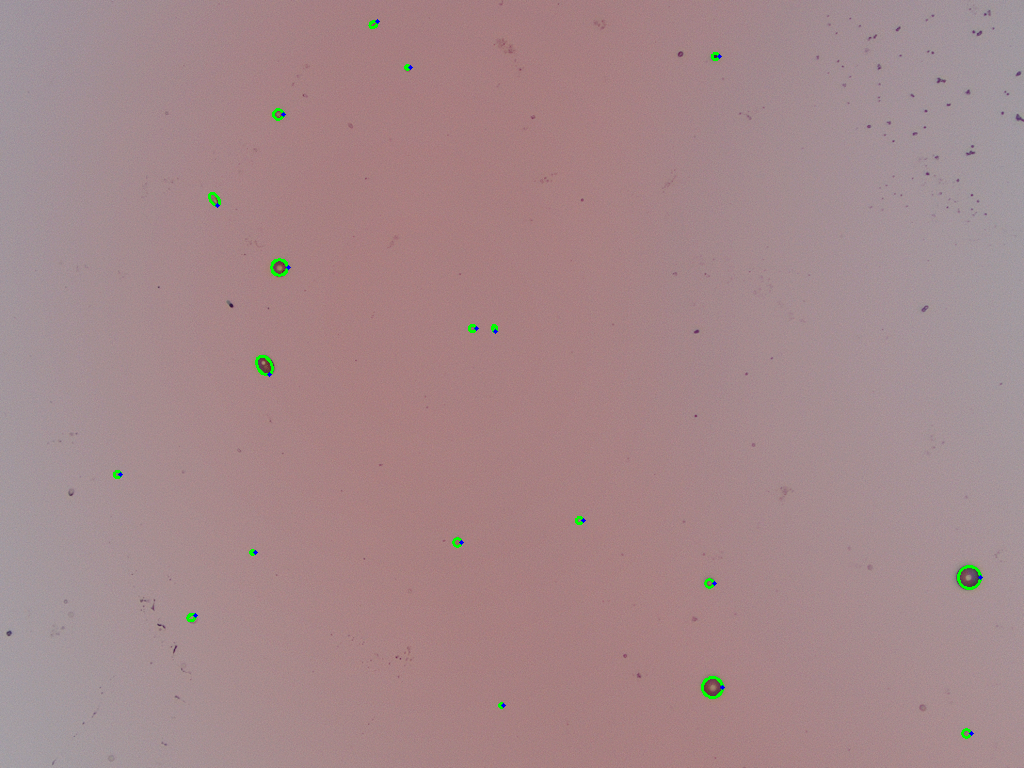circle: (957, 565, 980, 589), (702, 676, 722, 697), (270, 259, 288, 276), (273, 108, 283, 119), (704, 578, 714, 587), (962, 729, 971, 738), (453, 537, 461, 546), (187, 613, 195, 622), (711, 53, 719, 60), (576, 517, 583, 524), (113, 470, 120, 477), (404, 64, 410, 70), (250, 549, 255, 555), (498, 703, 503, 707)
ellipse: (255, 355, 274, 375), (209, 193, 219, 205), (491, 324, 497, 332), (468, 326, 476, 330)
